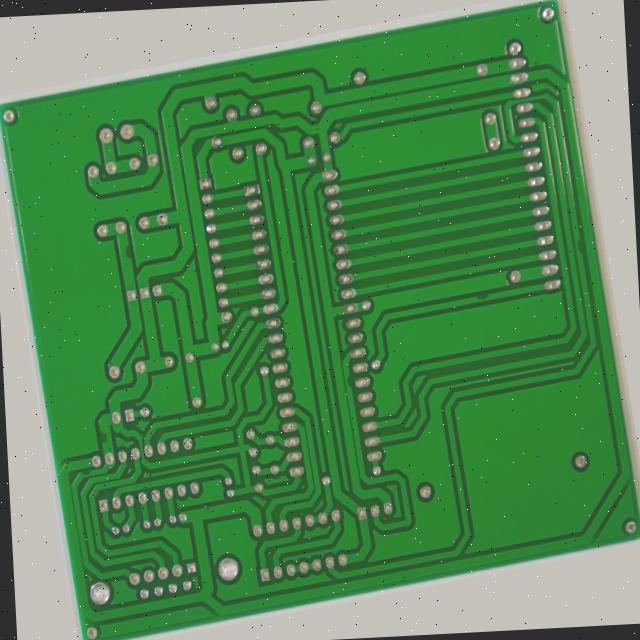mouse_bite: (63, 402, 78, 428), (487, 312, 511, 325), (112, 200, 125, 224), (338, 383, 350, 405), (606, 268, 616, 291)
